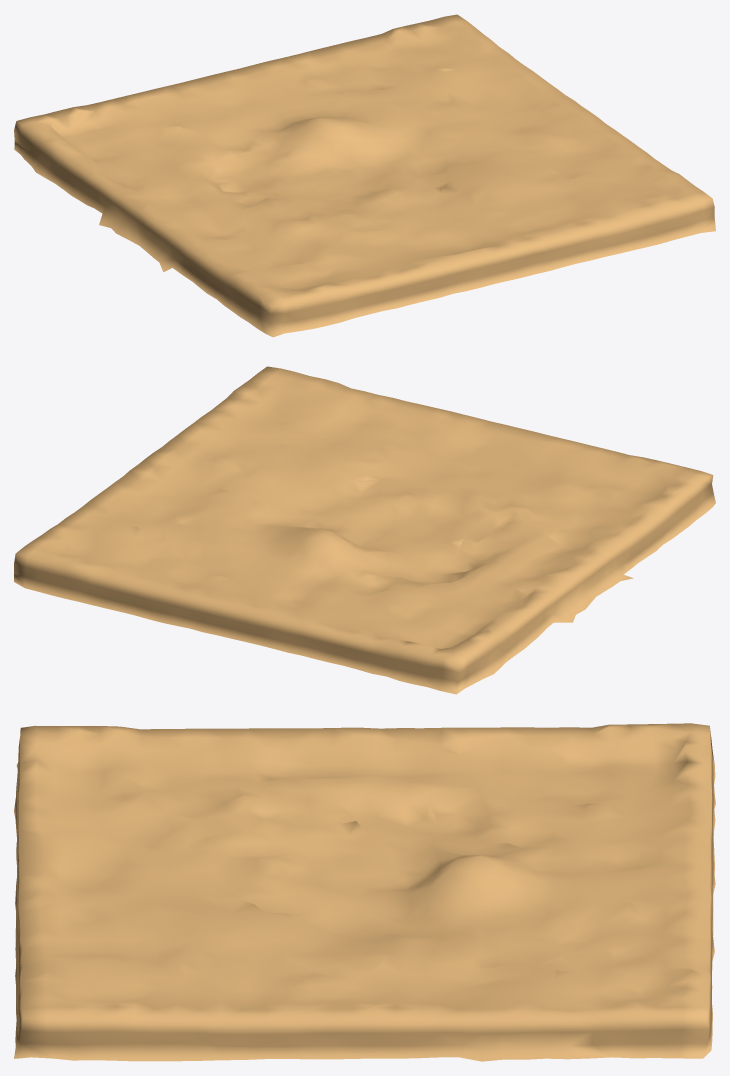
Rendered from SM_Sandbox2.fbx.
The picture shows the model from 3 angles, top to bottom: view 1: azimuth 30°, elevation 25°; view 2: azimuth 150°, elevation 25°; view 3: azimuth 270°, elevation 25°; orthographic projection. The views are drawn at different scales.
Visible parts, largest first — view 1: sandkasten.001; view 2: sandkasten.001; view 3: sandkasten.001.
Part boxes in pixels (x1,y1,x2,y2): sandkasten.001: [14, 14, 715, 337]; sandkasten.001: [14, 366, 715, 694]; sandkasten.001: [14, 723, 715, 1061].
Size of the model in its own units: 282 by 24.01 by 271.
